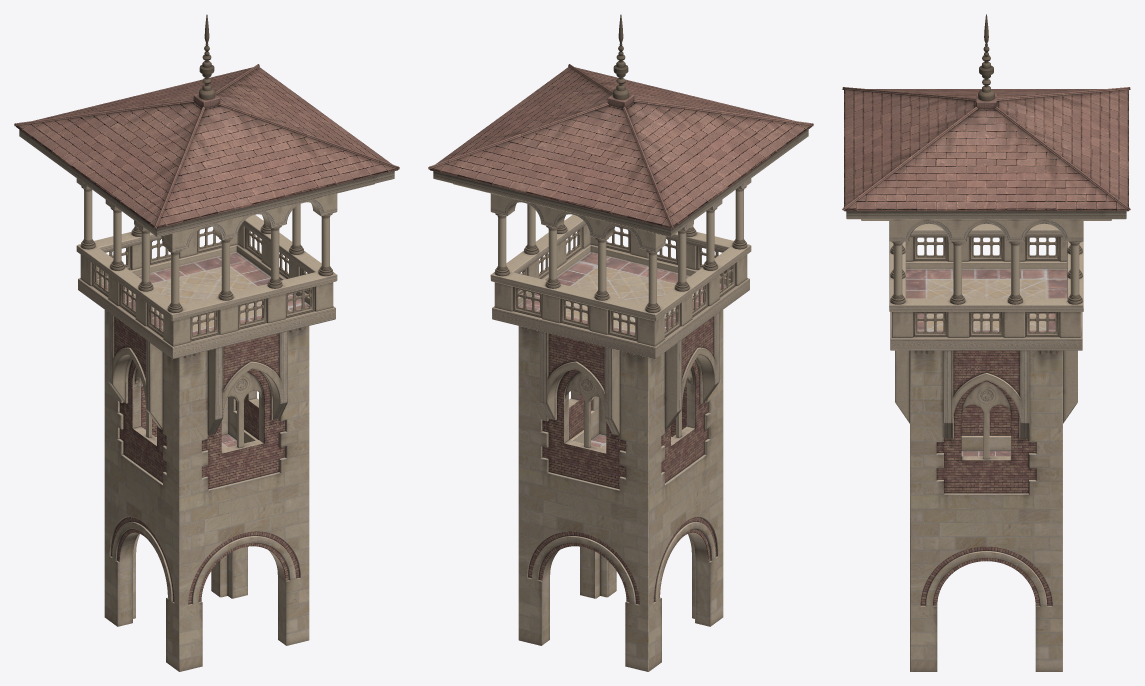
The model's file is clock-tower.glb.
3 views of the same model, side by side, from view 1: azimuth 30°, elevation 25°; view 2: azimuth 150°, elevation 25°; view 3: azimuth 270°, elevation 25° (orthographic).
Parts seen in each view (by area): view 1: Object_18, Object_14, Object_5, Object_19, Object_9, Object_13, Object_26; view 2: Object_18, Object_14, Object_5, Object_19, Object_9, Object_13, Object_26; view 3: Object_14, Object_18, Object_5, Object_19, Object_13, Object_9, Object_26.
Boxes of the visible parts, bbox=[...] form: Object_18: bbox=[104, 310, 309, 671]; Object_14: bbox=[14, 14, 399, 236]; Object_5: bbox=[76, 178, 337, 359]; Object_19: bbox=[108, 312, 287, 447]; Object_9: bbox=[81, 186, 332, 312]; Object_13: bbox=[102, 252, 309, 334]; Object_26: bbox=[141, 379, 258, 443]; Object_18: bbox=[518, 310, 723, 671]; Object_14: bbox=[428, 14, 813, 236]; Object_5: bbox=[490, 178, 751, 359]; Object_19: bbox=[540, 312, 719, 447]; Object_9: bbox=[495, 186, 746, 312]; Object_13: bbox=[518, 252, 725, 334]; Object_26: bbox=[569, 379, 686, 443]; Object_14: bbox=[842, 14, 1130, 220]; Object_18: bbox=[910, 350, 1062, 671]; Object_5: bbox=[889, 221, 1083, 354]; Object_19: bbox=[895, 350, 1077, 459]; Object_13: bbox=[906, 269, 1066, 331]; Object_9: bbox=[890, 241, 1082, 304]; Object_26: bbox=[961, 404, 1011, 450].
Bounding box in the file's own units: 7.05 × 16.87 × 7.04.
Materials: 8 (8 with a texture image).
